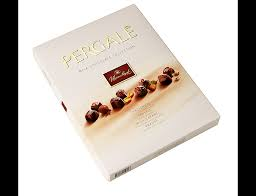Chocolate: (31, 6, 234, 184)
